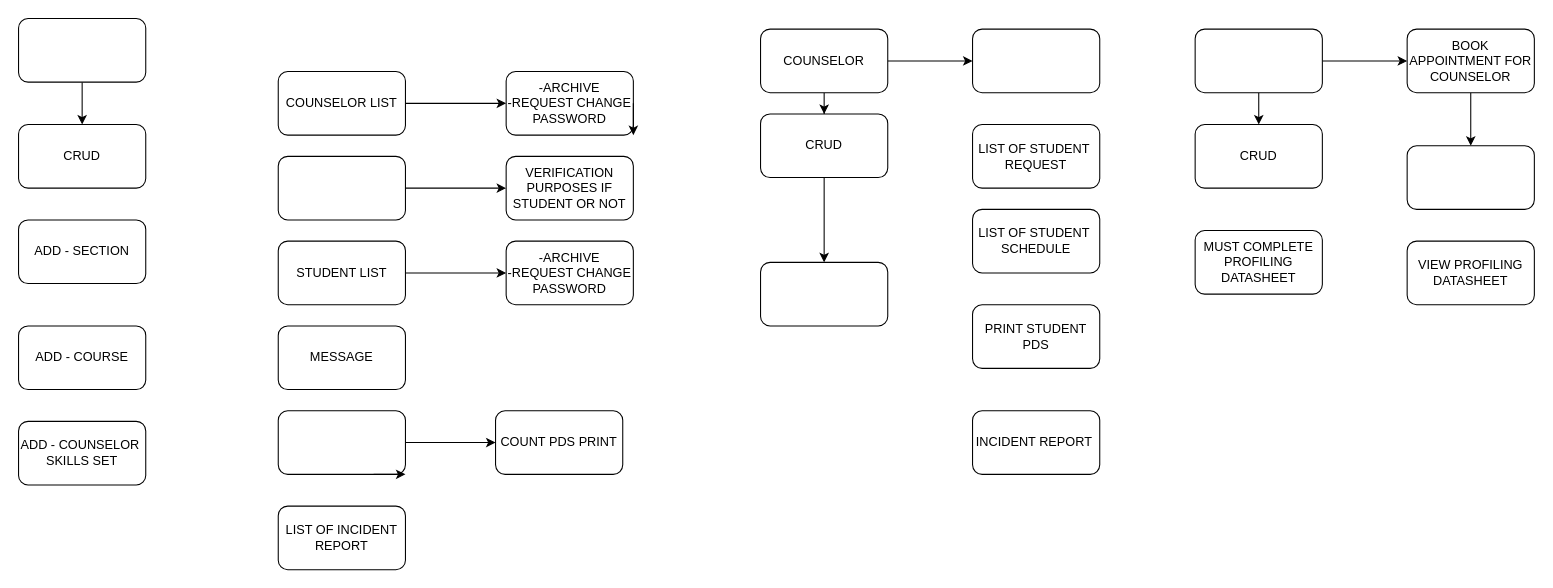
Some shapes in this 1553 by 588 pixel diagram are drawn without their labels. Here are the shapes that lost their labels. From the top down, the box of each, then its label:
(17, 17, 146, 82): ADMIN
(971, 28, 1100, 93): STUDENT SCHEDULE FOR APPOINTMENT
(1194, 28, 1322, 93): PATIENT/STUDENT
(277, 155, 405, 220): WALK IN STUDENT REGISTRATION
(1406, 145, 1534, 209): LIST OF SCHEDULE APPOINTMENT
(759, 261, 888, 326): VALIDATION MUST COMPLETE THE SKILLS SET IF CAPABLE
(277, 410, 405, 474): PDS PRINT
